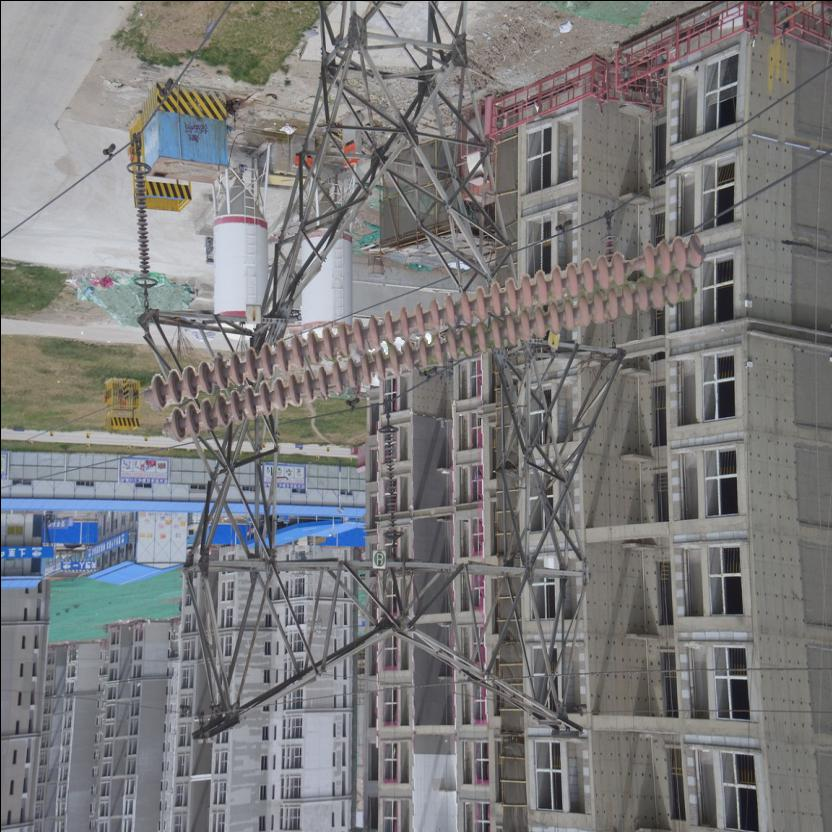defect: (610, 244, 658, 290)
